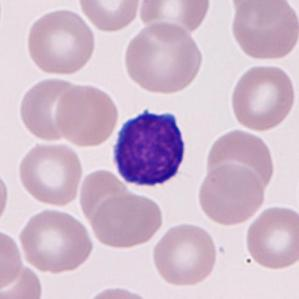Lymphocyte: (108, 102, 192, 194)
RBC: (121, 20, 204, 96), (15, 206, 96, 274), (24, 7, 98, 77), (203, 126, 277, 194), (16, 74, 87, 144), (228, 61, 297, 133), (150, 220, 221, 288), (16, 138, 84, 208), (196, 161, 268, 227), (88, 191, 165, 250), (228, 0, 298, 63), (53, 82, 119, 148), (243, 202, 298, 272), (76, 166, 130, 226), (137, 0, 212, 38), (76, 0, 143, 33), (0, 261, 45, 299), (0, 226, 24, 293), (227, 0, 295, 22), (81, 283, 156, 299), (0, 166, 11, 230)
